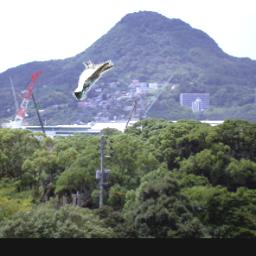Swallow: (71, 61, 114, 101)
